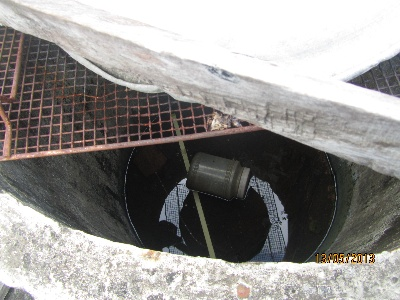bottle: (185, 150, 253, 203)
